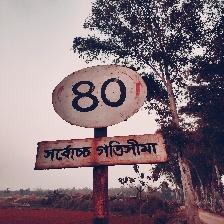Speed-limit: (38, 65, 166, 170)
